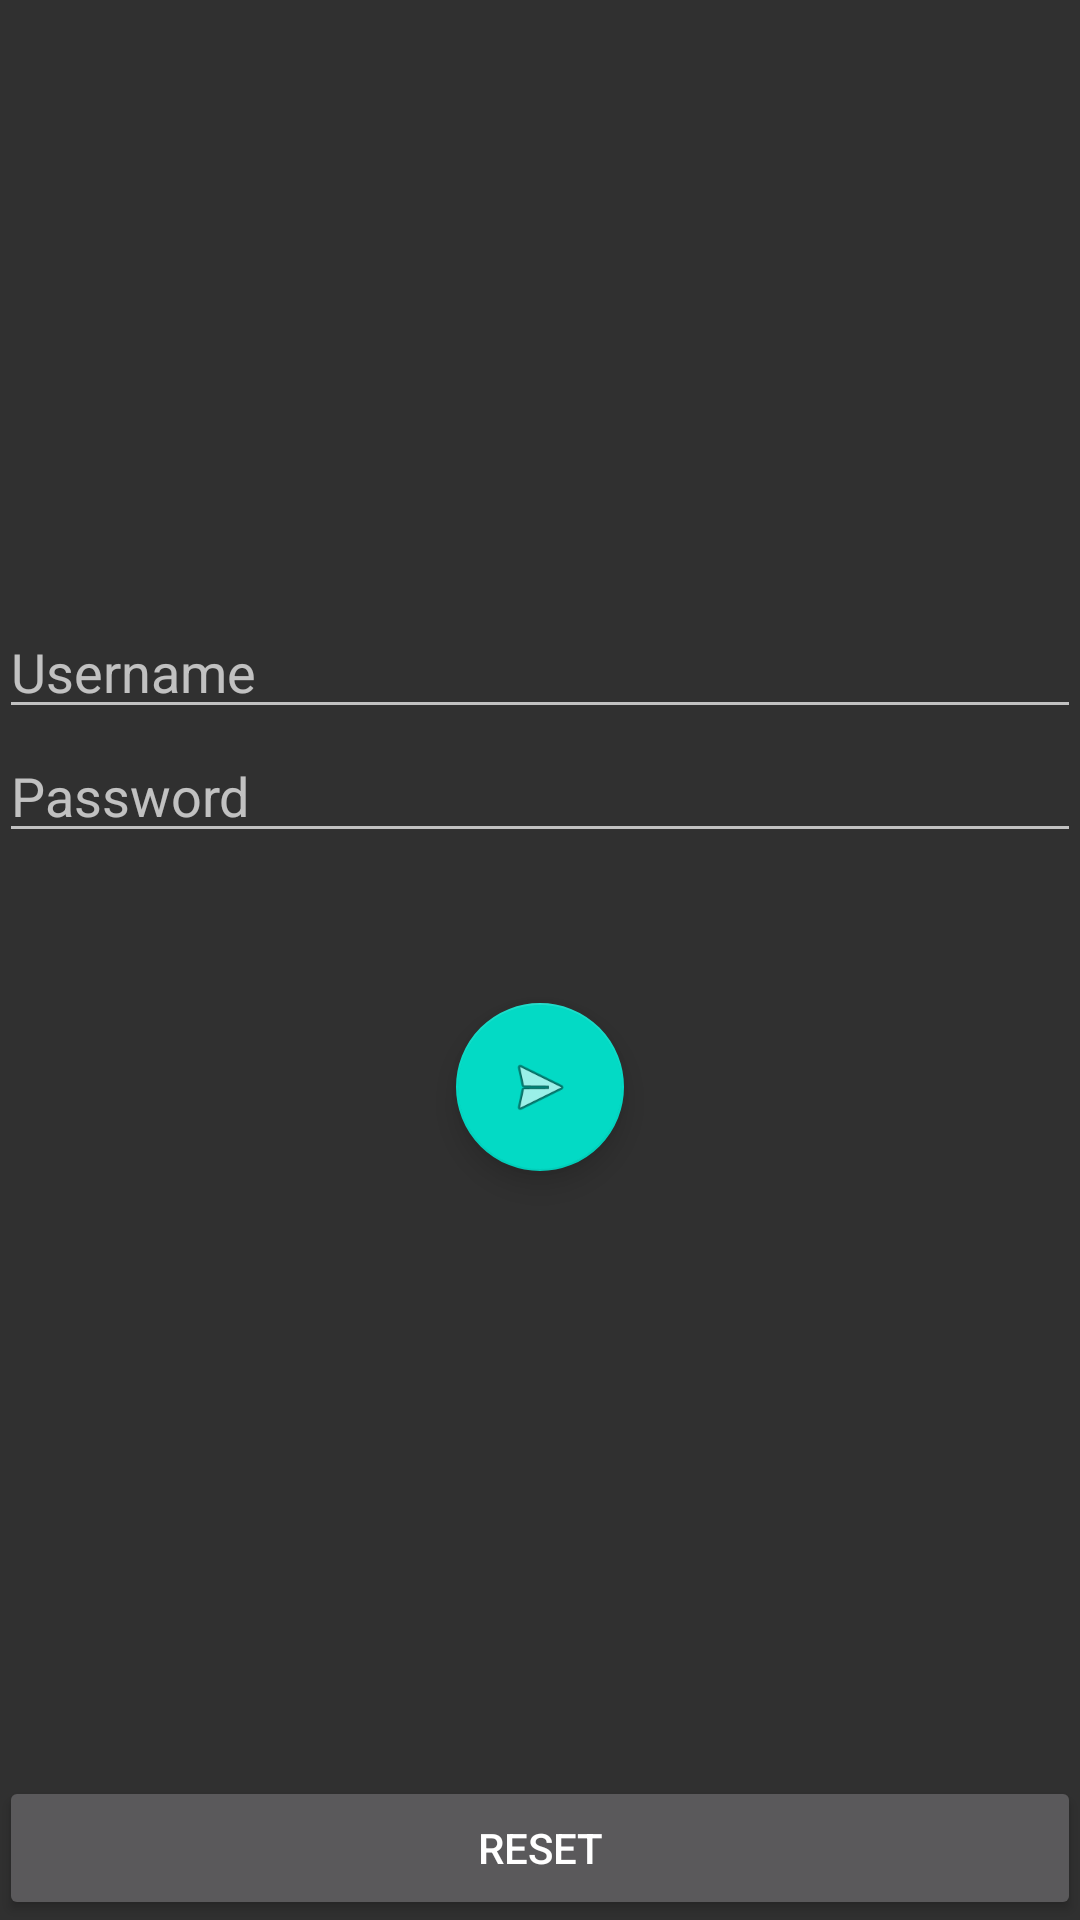

Icon click points for this 1080x1920 phone screenshot, format (x=x, y=y):
send: (x=540, y=1087)
